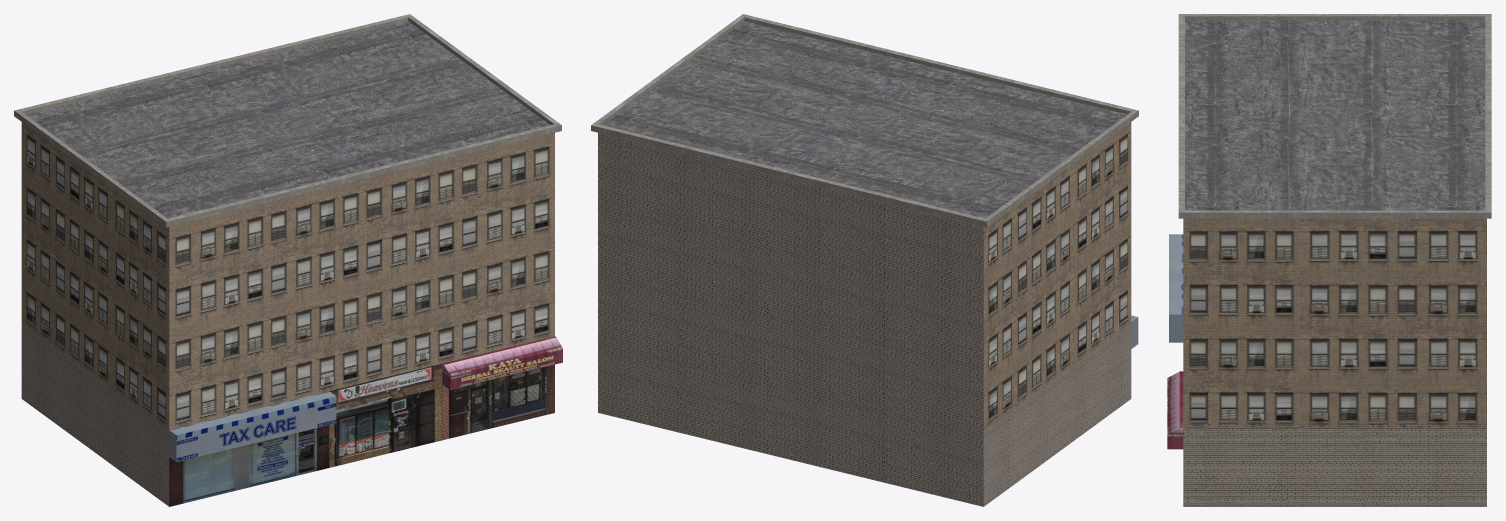
Rendered from building_01.glb.
3 renders of one model, left to right at view 1: azimuth 30°, elevation 25°; view 2: azimuth 150°, elevation 25°; view 3: azimuth 270°, elevation 25°, orthographic. The views are drawn at different scales.
Parts seen in each view (by area): view 1: building_01_mesh; view 2: building_01_mesh; view 3: building_01_mesh.
Boxes of the visible parts, x1,y1,x2,y2 form: building_01_mesh: (14,14,562,506); building_01_mesh: (591,14,1138,506); building_01_mesh: (1167,14,1491,506).
Bounding box in the file's own units: 28.18 × 19.6 × 19.43.
7 materials, 7 textured.
